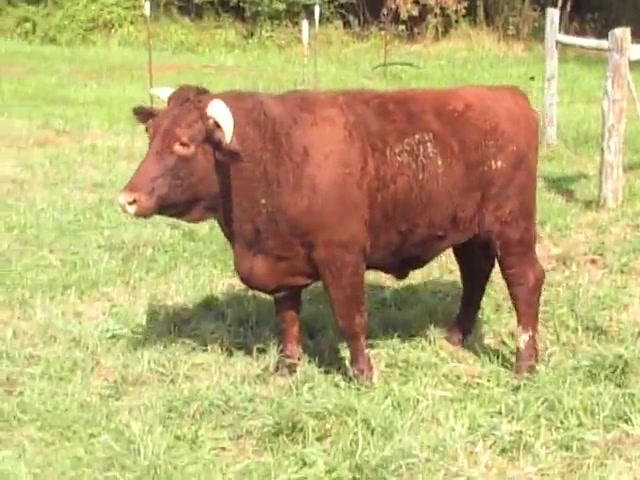cow: (109, 82, 547, 390)
